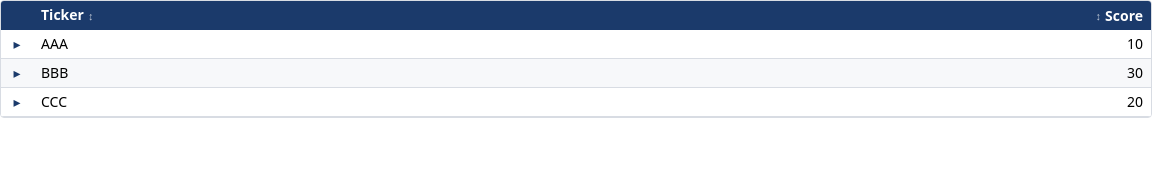
Scenario: DataTable › despliega el detalle de una fila (una a la vez)
Click the button named "Ver BBB".
click(17, 73)  # box [8,63,26,83]
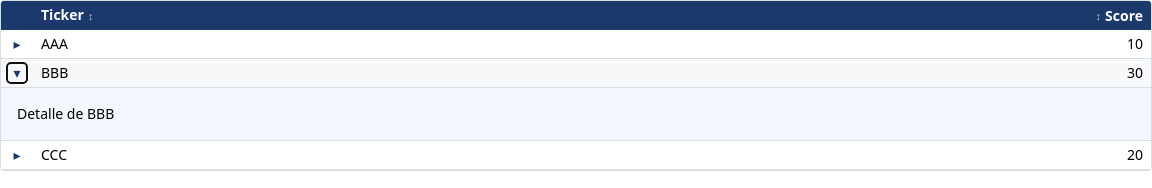
Check: the text "Detalle de BBB" is shown, box [17,104,114,123]
Check: the button named "Ver BBB" is expanded, box [8,63,26,83]
Click the button named "Ver AAA".
click(17, 44)  # box [8,34,26,54]
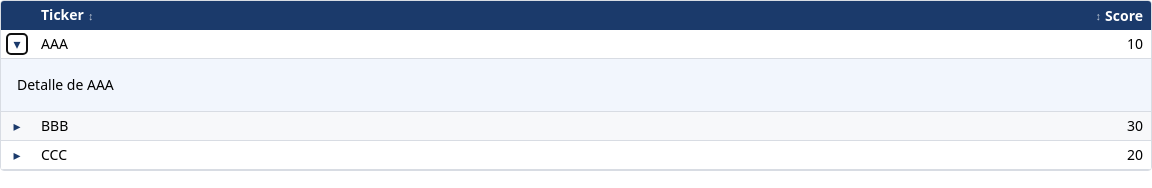
Check: the text "Detalle de AAA" is shown, box [17,75,114,94]
